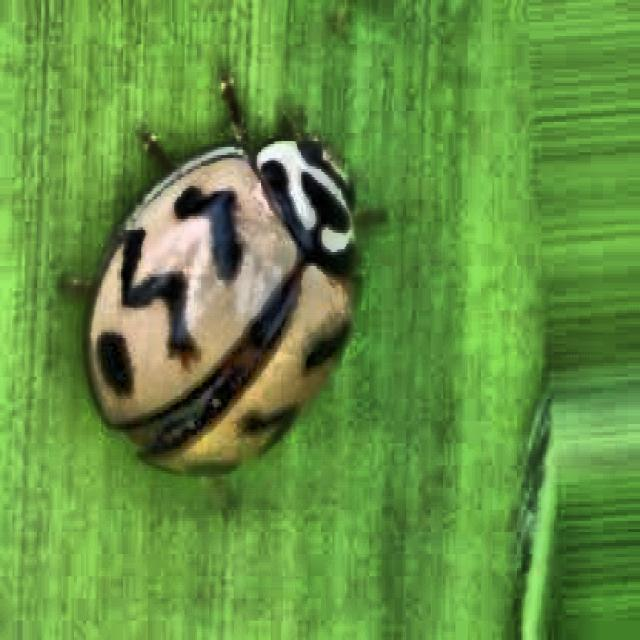Asian-Lady-beetle: (36, 38, 400, 590)
